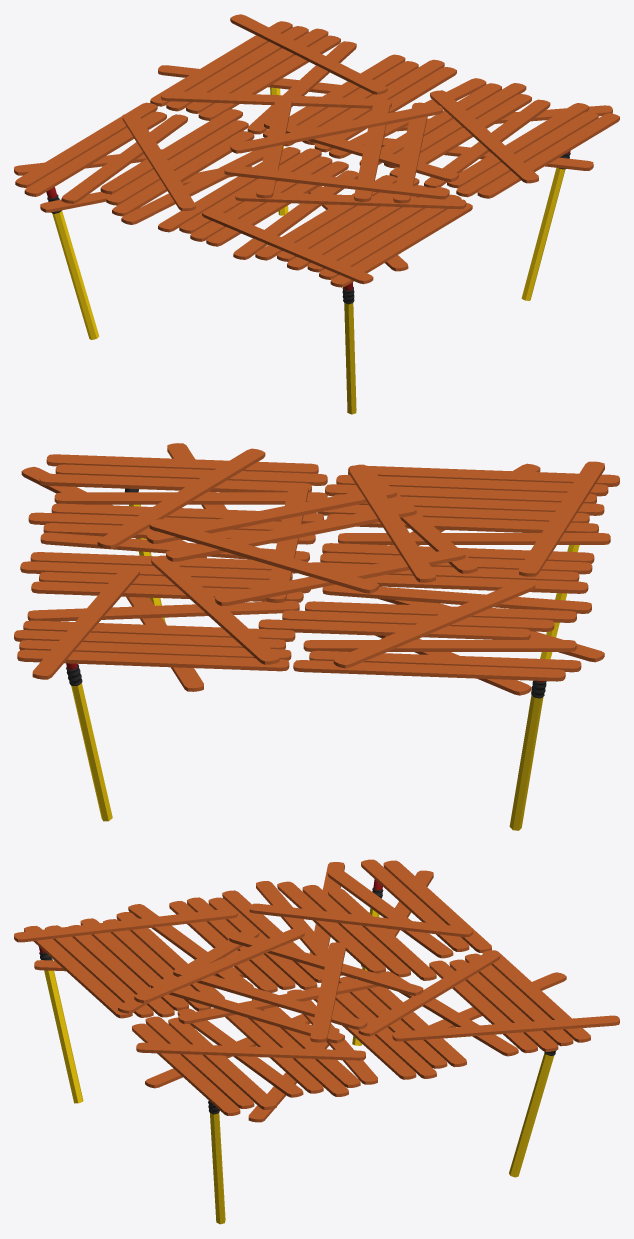
File: Mountain_Platform.FBX
The picture shows the model from 3 angles, top to bottom: view 1: azimuth 30°, elevation 25°; view 2: azimuth 150°, elevation 25°; view 3: azimuth 270°, elevation 25°; orthographic projection. The views are drawn at different scales.
Parts seen in each view (by area): view 1: Box517, Box515, Box505, Box503, Box506, Box501, Box502, Box481, Box478, Box504, Box459, Box476 (+42 smaller); view 2: Box479, Box515, Box504, Box480, Box475, Box502, Box483, Box476, Box484, Box503, Box472, Box506 (+41 smaller); view 3: Box502, Box506, Box504, Box505, Box517, Box503, Box521, Box523, Box518, Box476, Box479, Box481 (+42 smaller).
Boxes of the visible parts, bbox=[...] form: Box517: bbox=[224, 165, 449, 199]; Box515: bbox=[230, 104, 442, 153]; Box505: bbox=[202, 208, 373, 284]; Box503: bbox=[161, 91, 391, 108]; Box506: bbox=[230, 14, 387, 94]; Box501: bbox=[235, 191, 466, 209]; Box502: bbox=[430, 90, 538, 183]; Box481: bbox=[477, 113, 619, 198]; Box478: bbox=[24, 111, 166, 196]; Box504: bbox=[122, 113, 195, 210]; Box459: bbox=[330, 203, 472, 287]; Box476: bbox=[61, 114, 187, 203]; Box479: bbox=[293, 660, 565, 681]; Box515: bbox=[149, 519, 379, 593]; Box504: bbox=[333, 580, 535, 668]; Box480: bbox=[17, 649, 289, 671]; Box475: bbox=[258, 619, 530, 639]; Box502: bbox=[97, 448, 265, 549]; Box483: bbox=[39, 473, 311, 492]; Box476: bbox=[303, 640, 576, 651]; Box484: bbox=[54, 492, 327, 504]; Box503: bbox=[151, 555, 279, 664]; Box472: bbox=[322, 584, 591, 613]; Box506: bbox=[32, 566, 139, 679]; Box502: bbox=[136, 1042, 365, 1060]; Box506: bbox=[392, 1015, 619, 1041]; Box504: bbox=[249, 903, 472, 937]; Box505: bbox=[14, 908, 237, 942]; Box517: bbox=[134, 928, 304, 1003]; Box503: bbox=[358, 951, 500, 1036]; Box521: bbox=[173, 967, 367, 1029]; Box523: bbox=[151, 980, 344, 1043]; Box518: bbox=[229, 933, 423, 995]; Box476: bbox=[327, 869, 453, 958]; Box479: bbox=[383, 860, 491, 952]; Box481: bbox=[132, 1023, 240, 1115].
Size of the model in its own units: 2352 by 706 by 2340.
